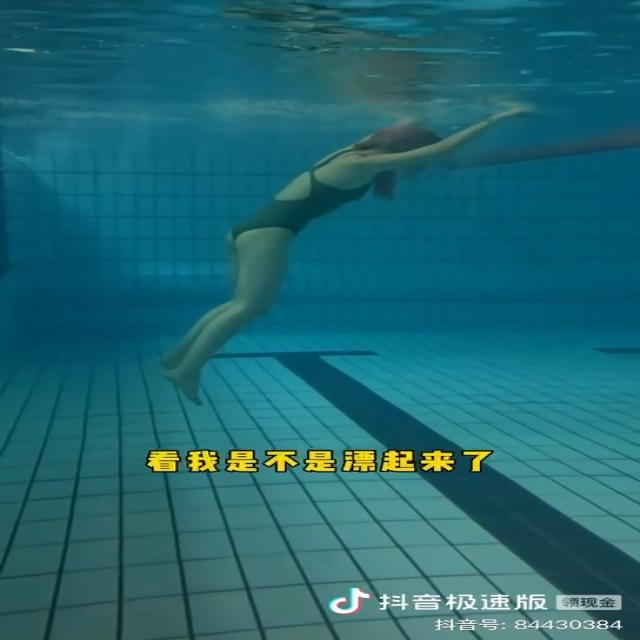Drowning: (160, 106, 541, 407)
